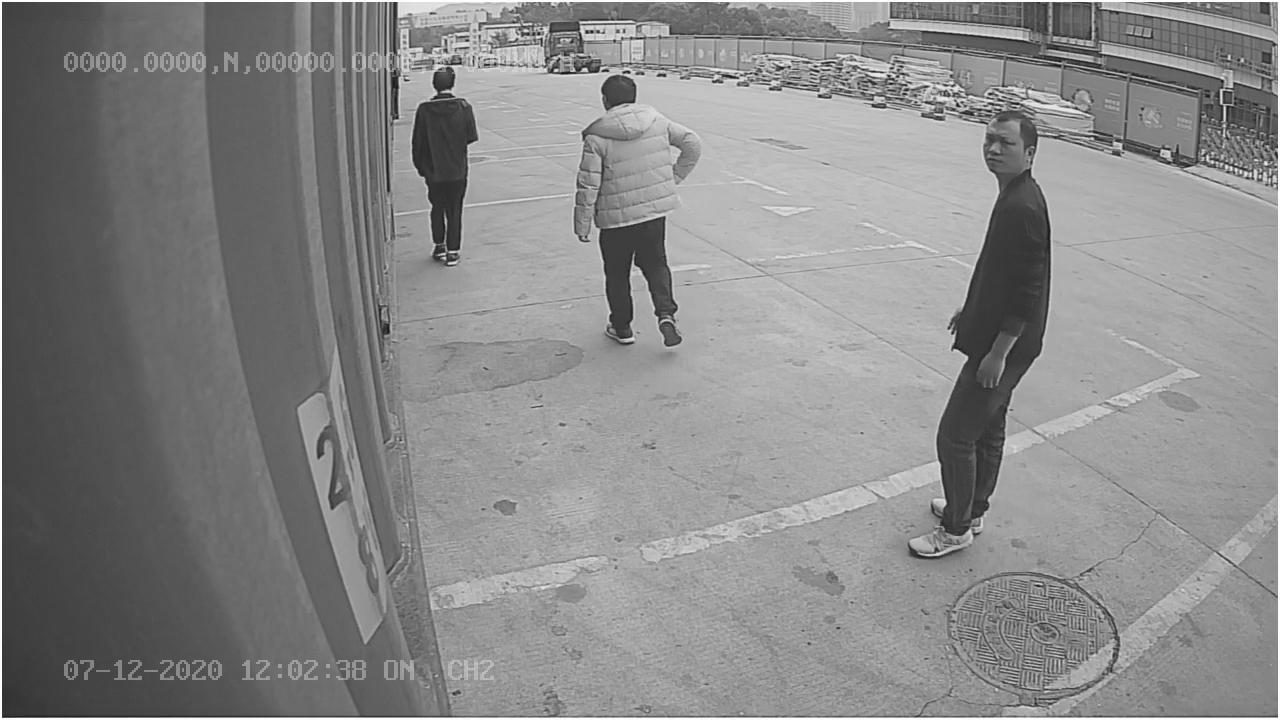person: (905, 107, 1053, 559), (571, 69, 702, 352)
